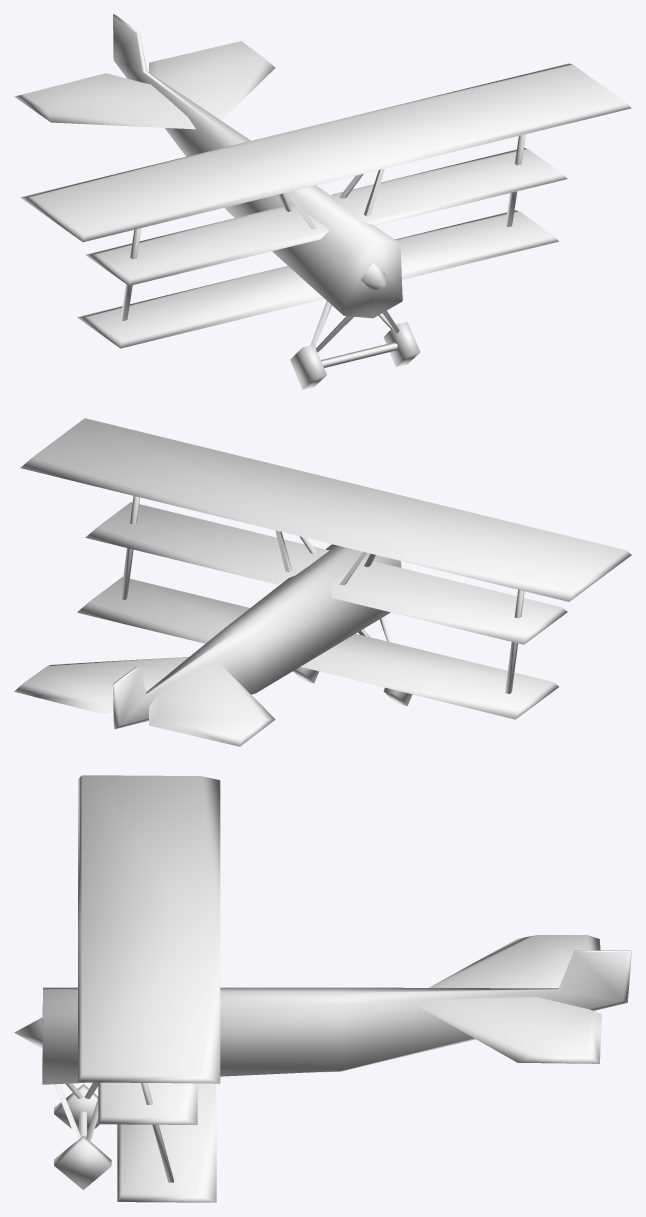
Rendered from icon.ico.obj.
The picture shows the model from 3 angles, top to bottom: view 1: azimuth 30°, elevation 25°; view 2: azimuth 150°, elevation 25°; view 3: azimuth 270°, elevation 25°; orthographic projection. The views are drawn at different scales.
Bounding box in the file's own units: 4.13 × 1.5 × 3.55.
Materials: 1 (1 with a texture image).
